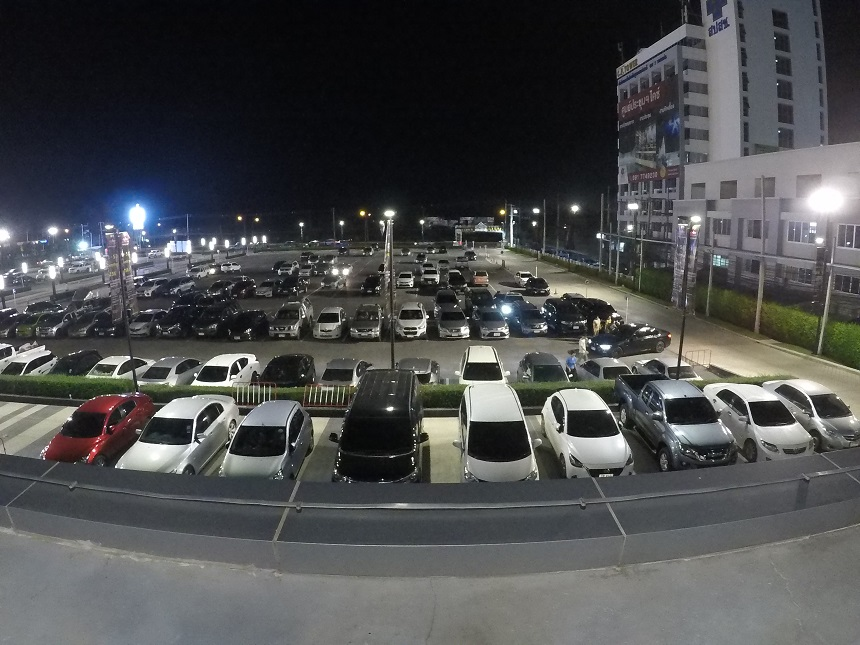busy: (449, 422, 545, 477), (639, 400, 726, 458), (337, 424, 423, 474), (230, 418, 312, 467), (561, 424, 633, 471), (55, 405, 130, 450), (149, 414, 215, 460), (744, 410, 807, 453), (814, 402, 860, 448), (209, 354, 259, 383), (401, 353, 444, 383), (99, 353, 146, 379), (388, 314, 433, 338), (461, 355, 506, 378), (150, 355, 191, 380), (643, 354, 687, 377), (441, 317, 478, 344), (517, 358, 561, 377), (584, 357, 620, 379), (556, 310, 590, 332), (273, 314, 303, 338), (231, 317, 264, 337), (519, 315, 550, 336), (325, 359, 352, 383), (313, 317, 341, 340), (293, 356, 316, 382), (353, 316, 380, 338), (195, 316, 224, 336), (479, 323, 510, 340), (597, 311, 623, 331), (57, 356, 84, 375), (9, 318, 33, 339), (99, 322, 124, 340), (159, 322, 188, 336), (17, 355, 43, 370), (130, 324, 151, 342), (69, 323, 91, 338), (42, 324, 61, 339), (1, 346, 15, 363)
